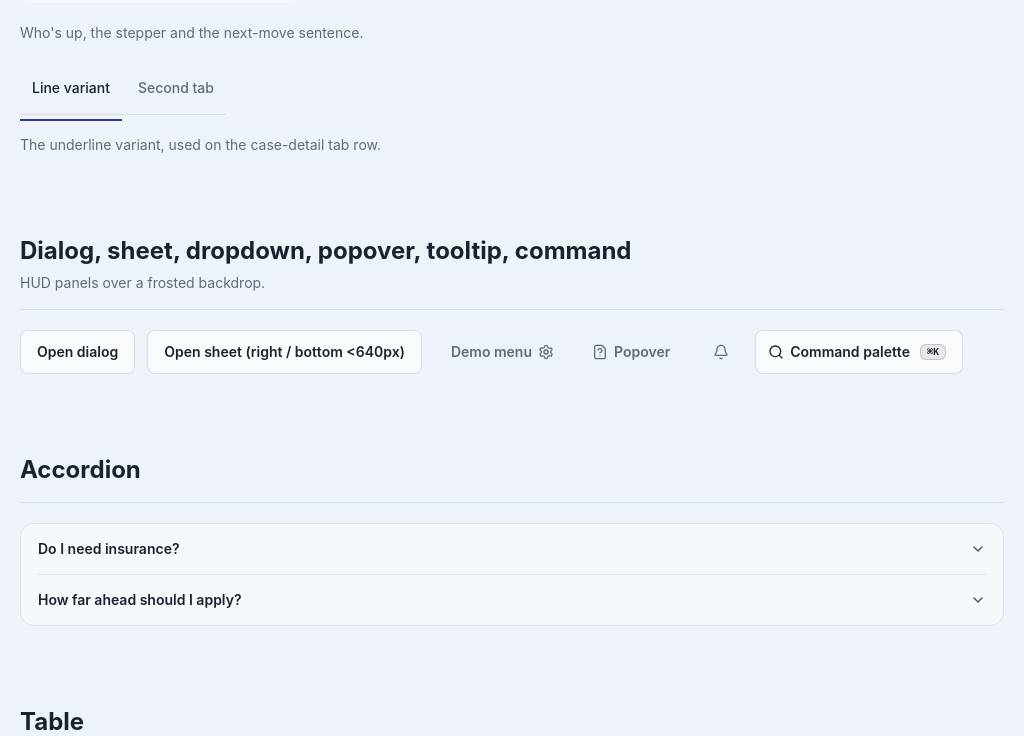
Test: the Phase 1 kit page › opens the command palette
This screenshot has width=1024, height=736.
(page scrolled)
Click the button "Command palette ⌘K".
click(859, 352)  # box [755,330,963,374]
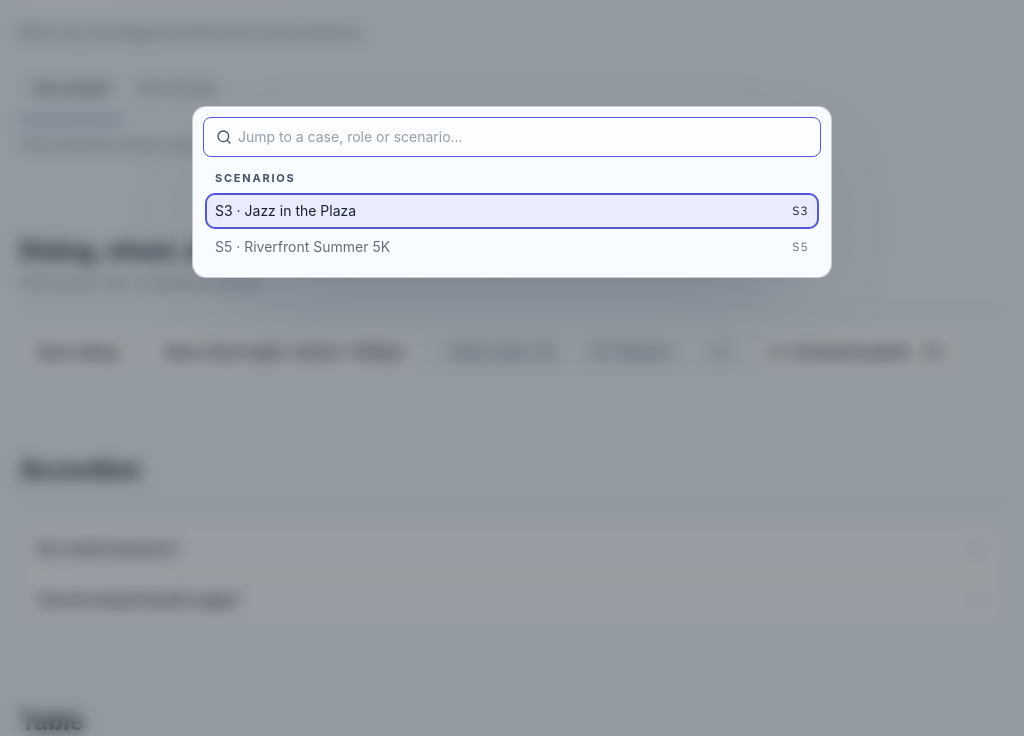
Expected: the dropdown with placeholder "Jump to a case, role or scenario..." is shown, [232,127,820,147]
